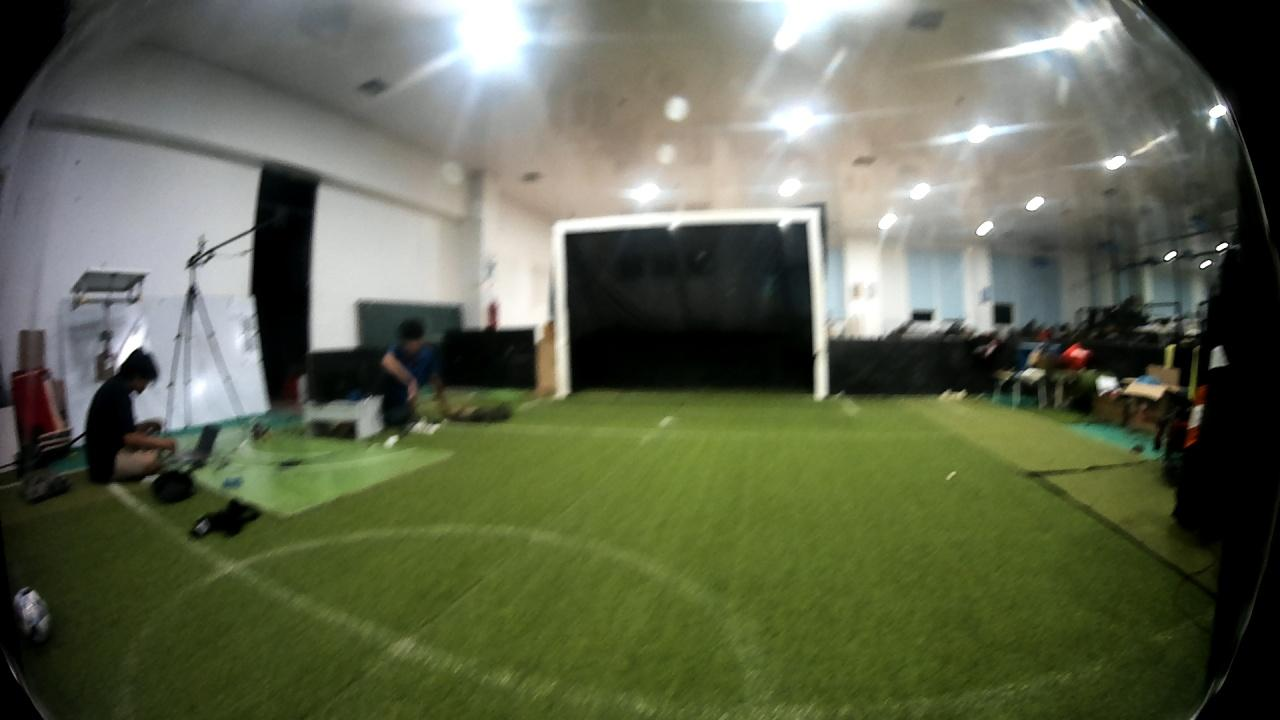ball: (9, 581, 55, 653)
